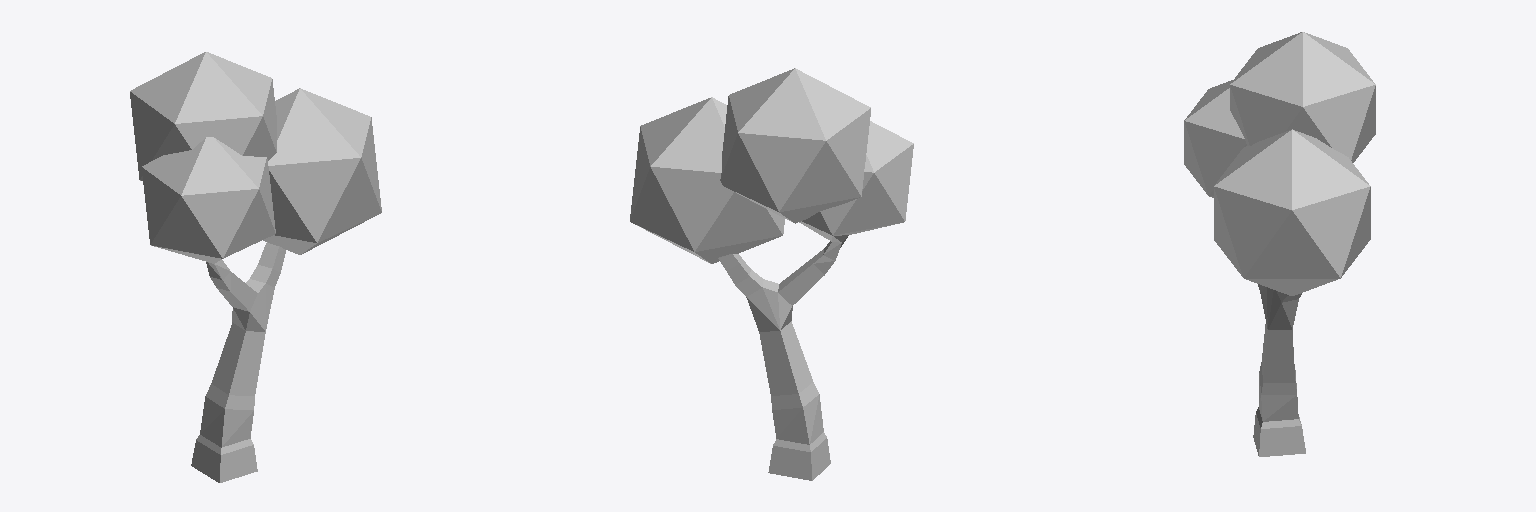
Rendered from tree.obj.
3 views of the same model, side by side, from view 1: azimuth 30°, elevation 25°; view 2: azimuth 150°, elevation 25°; view 3: azimuth 270°, elevation 25° (orthographic).
Parts seen in each view (by area): view 1: Cube; view 2: Cube; view 3: Cube.
Boxes of the visible parts, <box> form: Cube: <box>130,52,381,482</box>; Cube: <box>630,68,913,480</box>; Cube: <box>1184,32,1375,456</box>.
Bounding box in the file's own units: 6.24 × 10.07 × 4.26.